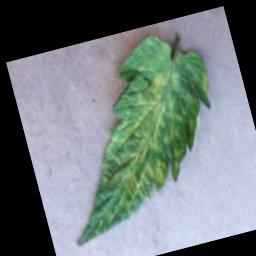Leaf_Mold: (31, 24, 242, 247)
